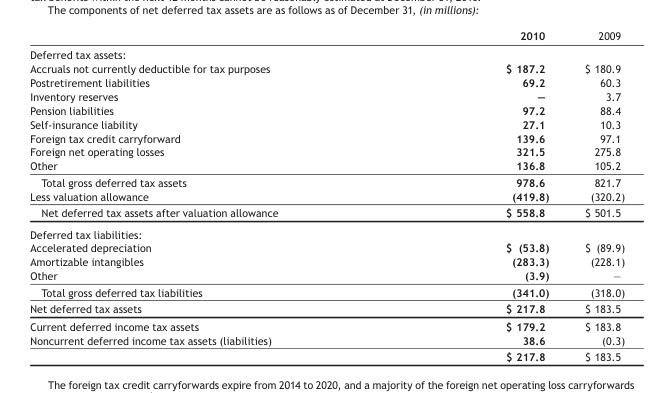table: (29, 29, 624, 362)
table column: (29, 29, 391, 362), (391, 29, 566, 362), (566, 29, 624, 362)
table column header: (29, 29, 624, 44)
table projected row header: (29, 222, 624, 240), (29, 44, 624, 61)
table row: (29, 204, 624, 222), (29, 222, 624, 240), (29, 299, 624, 317), (29, 44, 624, 61), (29, 188, 624, 204), (29, 283, 624, 299), (29, 29, 624, 44), (29, 158, 624, 173), (29, 173, 624, 188), (29, 268, 624, 283), (29, 317, 624, 332), (29, 332, 624, 347), (29, 347, 624, 362), (29, 61, 624, 75), (29, 75, 624, 89), (29, 89, 624, 103), (29, 116, 624, 130), (29, 130, 624, 144), (29, 144, 624, 158), (29, 240, 624, 254), (29, 254, 624, 268), (29, 103, 624, 116)
